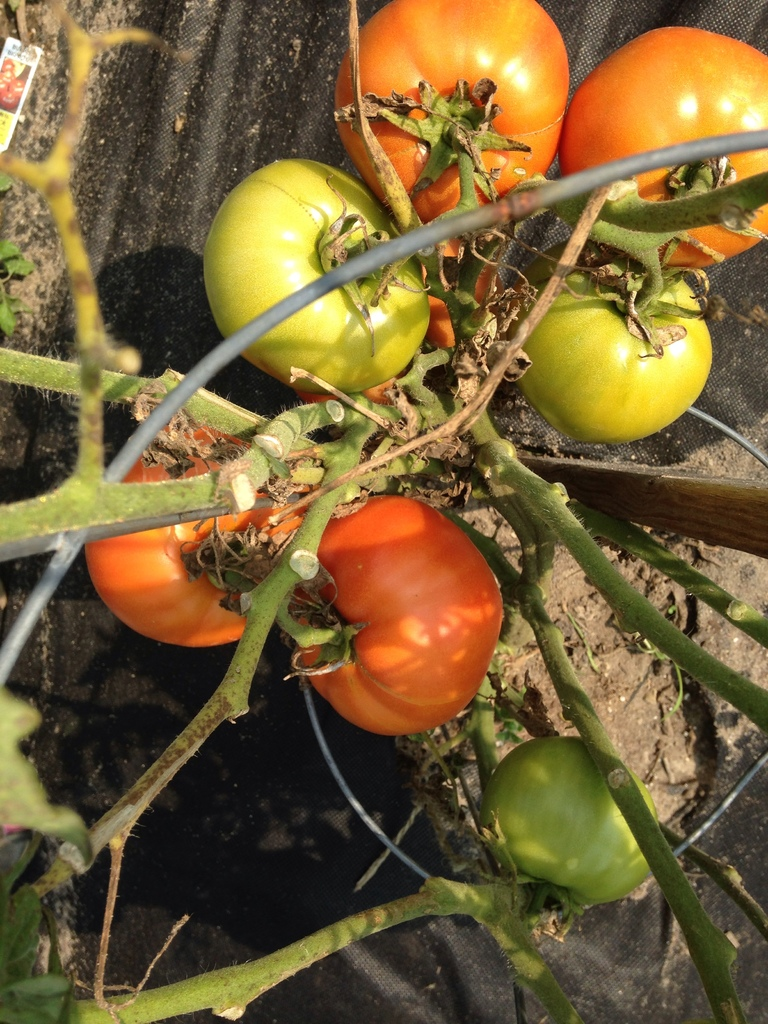Tomato: (200, 154, 430, 389), (283, 494, 501, 736), (332, 0, 567, 224), (559, 27, 767, 269), (83, 424, 302, 644), (513, 273, 710, 440), (479, 735, 655, 906)
